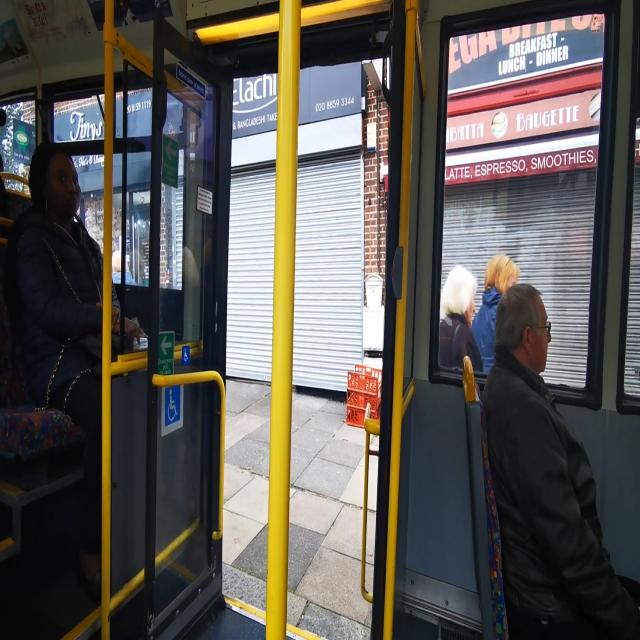bus-door: (156, 19, 408, 640)
